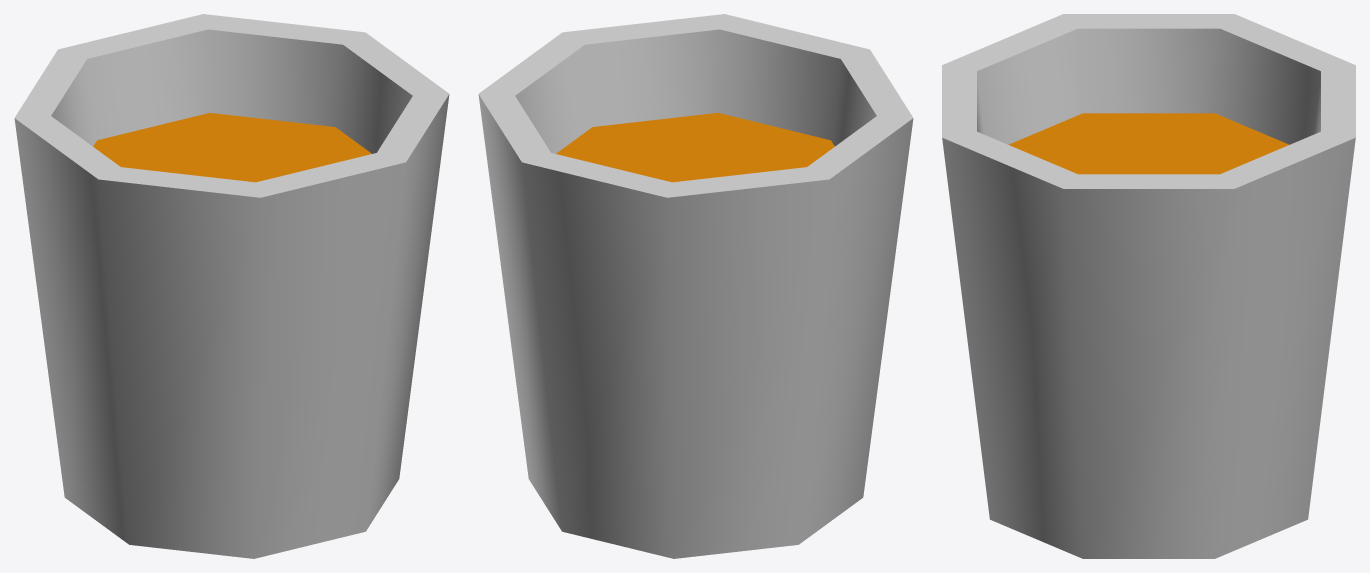
Rendered from sipcup.fbx.
3 renders of one model, left to right at view 1: azimuth 30°, elevation 25°; view 2: azimuth 150°, elevation 25°; view 3: azimuth 270°, elevation 25°, orthographic. The views are drawn at different scales.
Visible parts, largest first — view 1: Circle.003; view 2: Circle.003; view 3: Circle.003.
Boxes of the visible parts, box(x1,y1,x2,y2) form: Circle.003: box(14, 14, 449, 558); Circle.003: box(478, 14, 913, 558); Circle.003: box(942, 14, 1355, 558).
Bounding box in the file's own units: 24.02 × 25 × 24.02.
